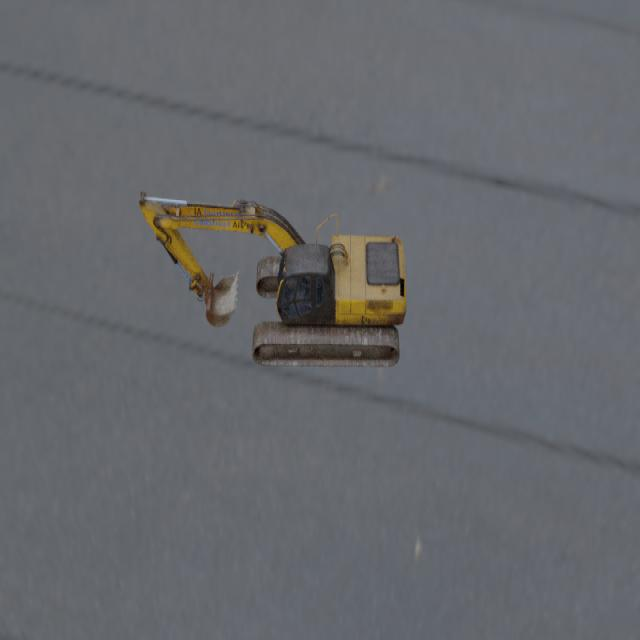excavator: (138, 189, 406, 367)
